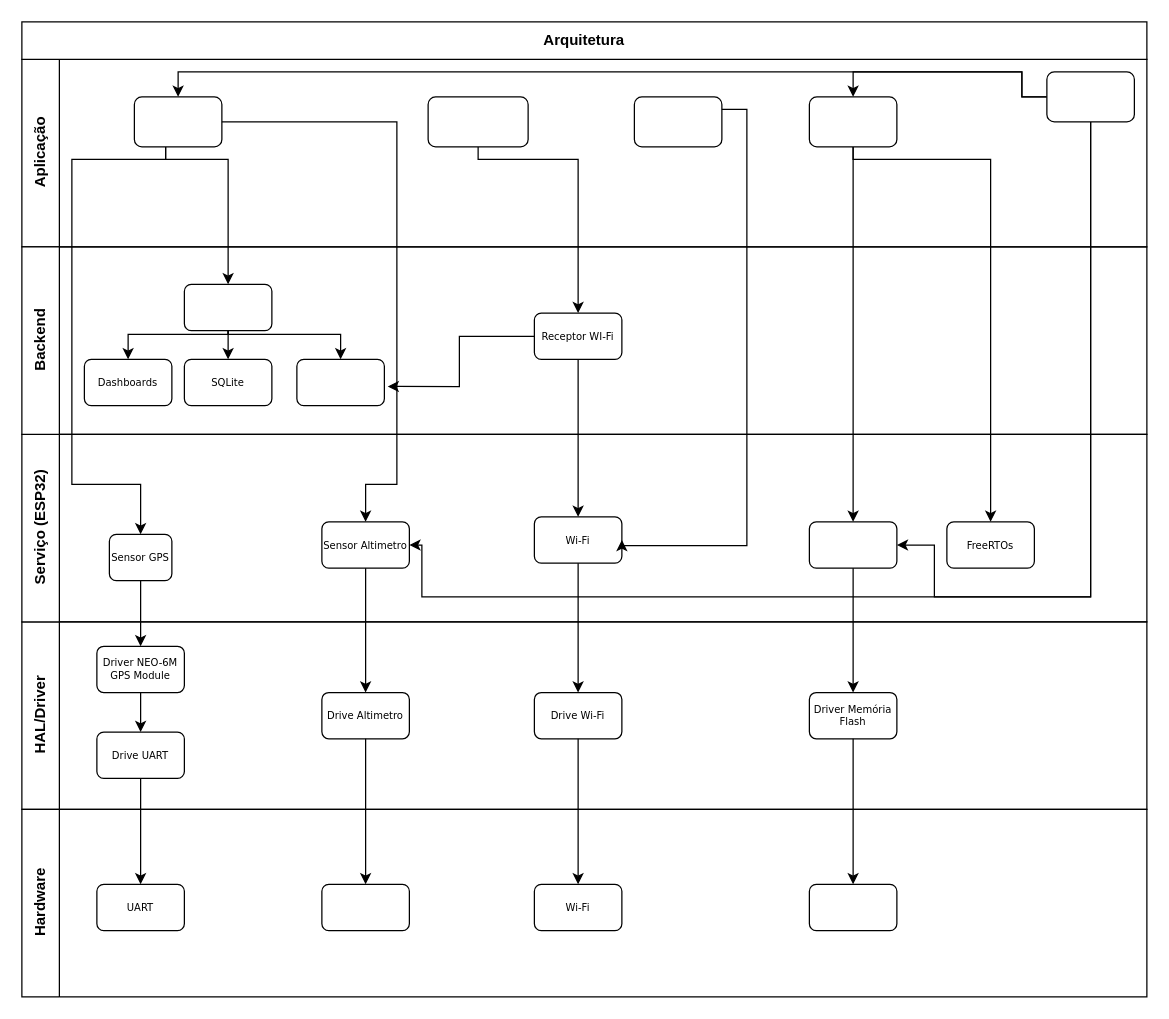
Image size: 1169x1019. Some labels were removed from this diagram. The shapes that lost their labels are listed below. From the top down, each one's centre as x and y in pixels, then its label:
(x=1090, y=96): Cálculo de Parâmetros
(x=177, y=121): Aquisição de Dados
(x=477, y=121): Gerenciamento de Comunicação
(x=677, y=121): Controle de Lançamento
(x=852, y=121): Diagnóstico
(x=227, y=307): Interface Web
(x=340, y=382): ORM Django
(x=852, y=544): NVS Library
(x=365, y=907): Altimetro
(x=852, y=907): Memória Flash
